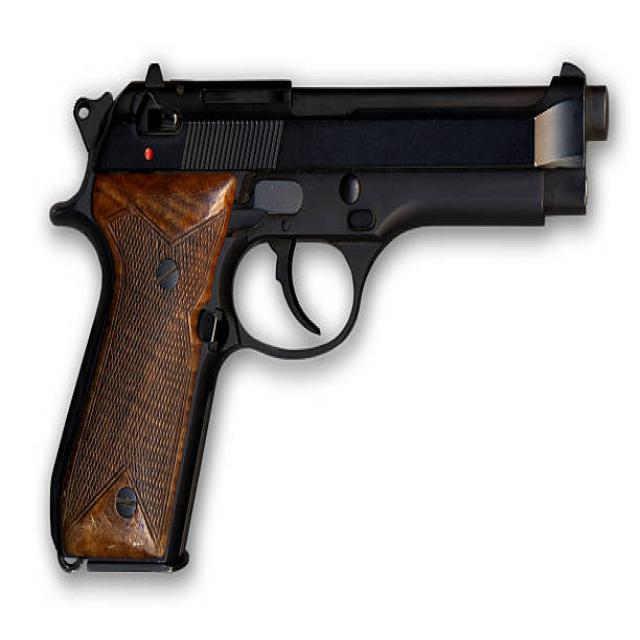pistol: (39, 42, 613, 586)
